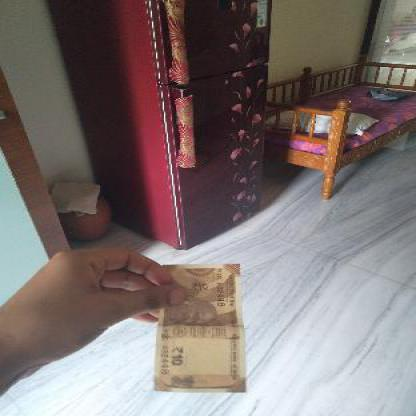New10Front: (154, 264, 242, 394)
